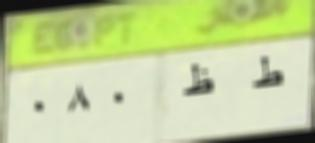0: (108, 85, 129, 113), (33, 96, 49, 119)
8: (66, 83, 91, 116)
Taa: (248, 53, 287, 97)
Thaa: (180, 59, 221, 102)
